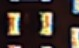COMP: (3, 8, 57, 39)
GAP: (7, 26, 53, 48), (8, 1, 53, 19), (43, 26, 79, 37)
